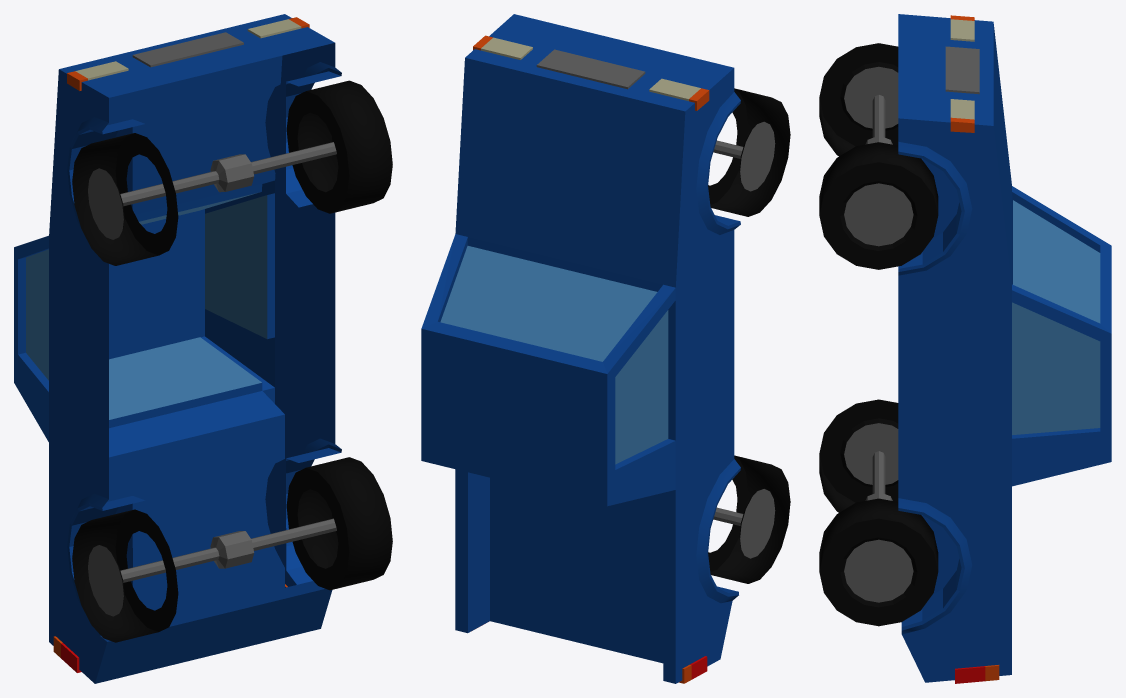
Rendered from PickupBlue.dae.
3 renders of one model, left to right at view 1: azimuth 30°, elevation 25°; view 2: azimuth 150°, elevation 25°; view 3: azimuth 270°, elevation 25°, orthographic. The views are drawn at different scales.
Visible parts, largest first — view 1: PickupBlue; view 2: PickupBlue; view 3: PickupBlue.
Boxes of the visible parts, left/top/right/bottom form: PickupBlue: left=14, top=14, right=392, bottom=683; PickupBlue: left=421, top=14, right=790, bottom=683; PickupBlue: left=819, top=14, right=1111, bottom=683.
Size of the model in its own units: 0.8924 by 0.925 by 1.97.
